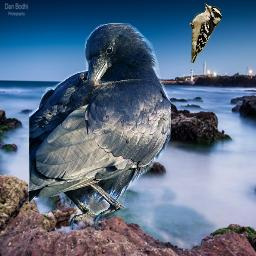Crow: (29, 23, 171, 230)
Woodpecker: (189, 3, 222, 63)
